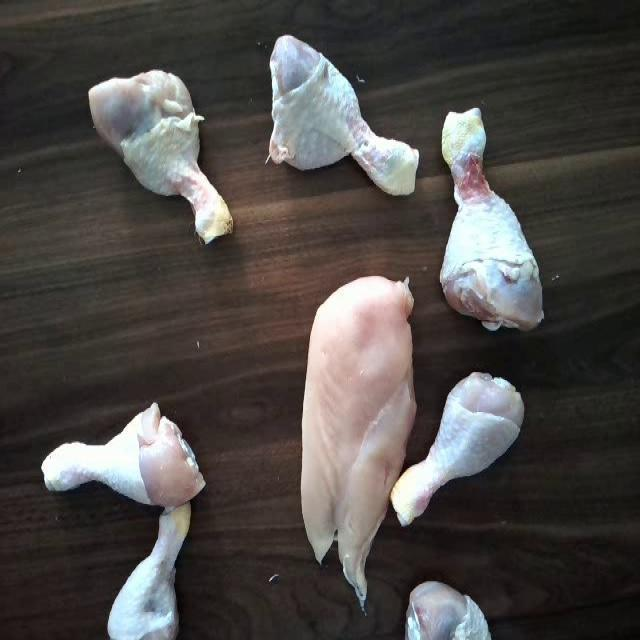breast: (296, 272, 417, 576)
leg: (434, 108, 552, 339), (89, 61, 235, 244), (264, 33, 422, 199), (392, 364, 528, 526), (38, 396, 214, 510), (105, 496, 213, 640), (403, 576, 498, 640)
